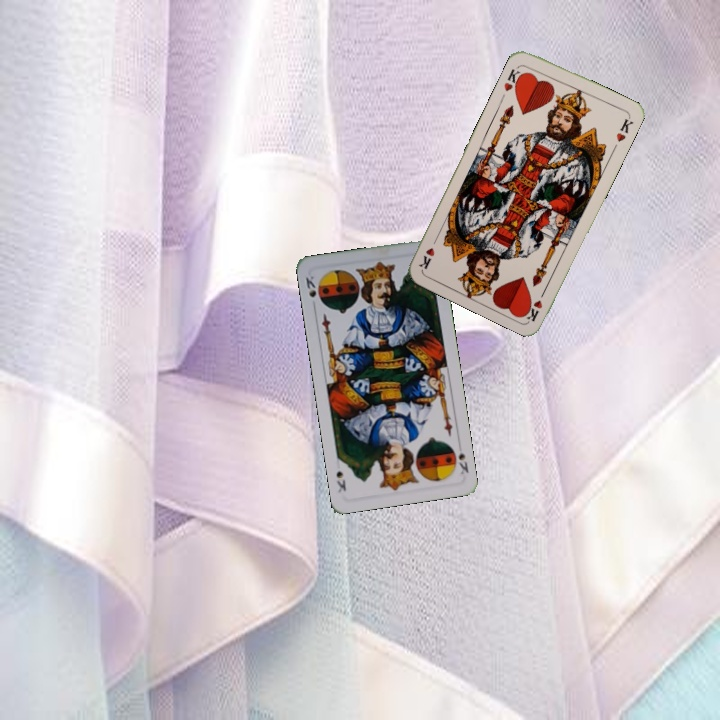HK: (522, 284, 549, 323), (500, 61, 527, 95)
SK: (302, 272, 319, 311), (454, 447, 471, 477)
